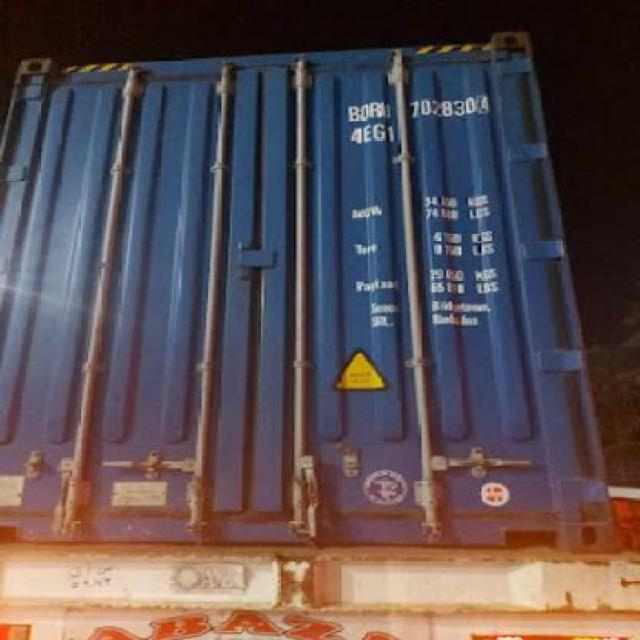ISO: (347, 121, 398, 142)
container_number: (340, 98, 493, 117)
